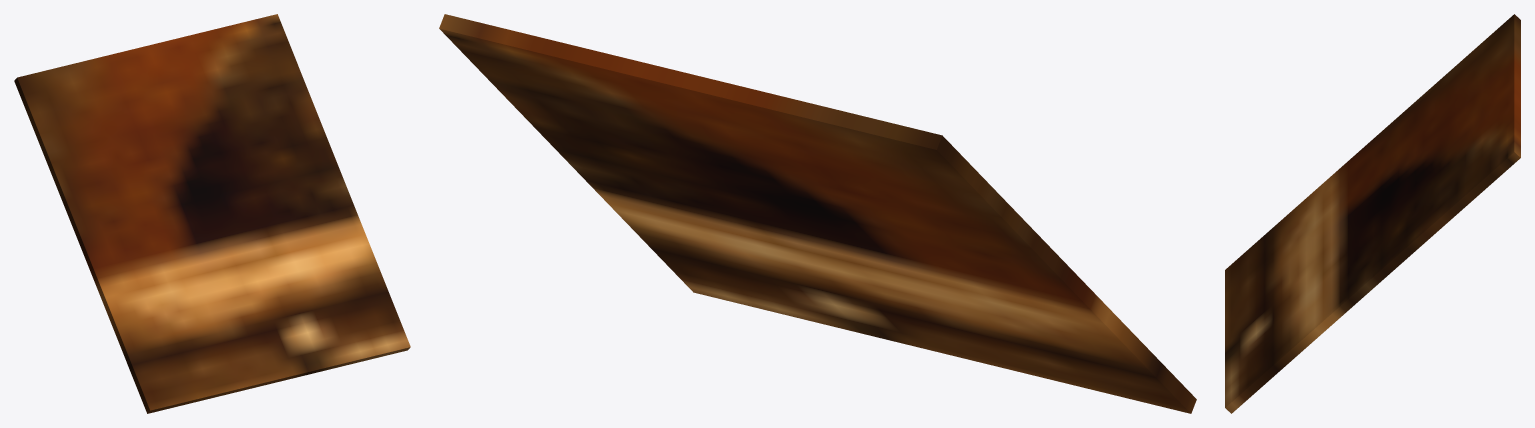
Rendered from feather_nok_02.dae.
3 views of the same model, side by side, from view 1: azimuth 30°, elevation 25°; view 2: azimuth 150°, elevation 25°; view 3: azimuth 270°, elevation 25° (orthographic). The views are drawn at different scales.
Parts seen in each view (by area): view 1: a_feather_nok_02; view 2: a_feather_nok_02; view 3: a_feather_nok_02.
Part boxes in pixels (left/top/right/bottom): a_feather_nok_02: left=14, top=14, right=410, bottom=413; a_feather_nok_02: left=439, top=14, right=1196, bottom=413; a_feather_nok_02: left=1225, top=14, right=1520, bottom=413.
Bounding box in the file's own units: 0.7126 × 0.6449 × 0.6302.
